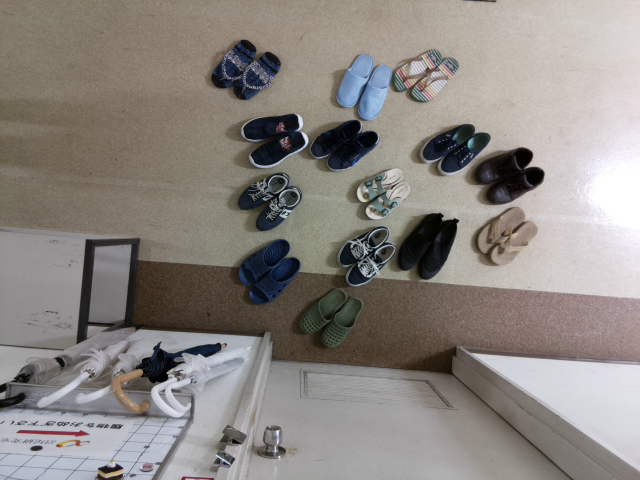Copy of Copy of Copy of Copy of Copy of Copy of Copy of Copy of Copy of Copy of: (409, 215, 460, 278), (393, 211, 442, 274), (481, 163, 550, 207), (486, 216, 540, 270), (324, 127, 384, 175), (305, 115, 365, 162), (332, 47, 376, 111), (351, 60, 395, 124), (409, 53, 462, 106), (416, 121, 477, 167), (390, 45, 445, 95), (471, 144, 534, 186), (336, 223, 391, 271), (342, 242, 397, 290), (436, 130, 492, 177), (473, 206, 525, 254), (363, 179, 415, 220), (353, 166, 405, 206)
Copy of Copy of Copy of Copy of Copy of Copy of Copy of Copy of Copy of shoe: (317, 295, 362, 351)
Copy of Copy of Copy of Copy of Copy of Copy of Copy of Copy of shoe: (294, 285, 350, 336)
Copy of Copy of Copy of Copy of Copy of Copy of Copy of shoe: (242, 251, 303, 304)
Copy of Copy of Copy of Copy of Copy of Copy of shoe: (232, 237, 290, 286)
Copy of Copy of Copy of Copy of Copy of shoe: (252, 184, 306, 232)
Copy of Copy of Copy of Copy of shoe: (231, 169, 293, 214)
Copy of Copy of Copy of shoe: (242, 127, 310, 169)
Copy of Copy of shoe: (238, 107, 305, 149)
Copy of shoe: (232, 47, 283, 102)
shoe: (209, 34, 257, 91)
